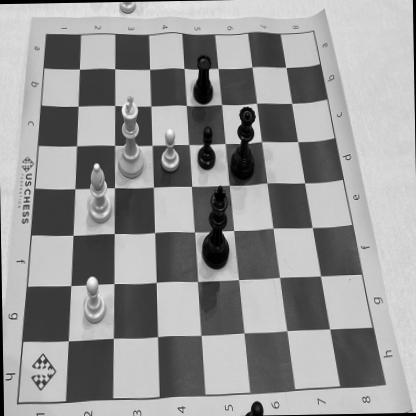bishop: (84, 161, 112, 225)
king: (113, 92, 146, 181), (200, 180, 231, 272)
pawn: (80, 274, 108, 326), (158, 126, 180, 174), (196, 126, 218, 171)
queen: (228, 100, 256, 181)
rook: (189, 50, 214, 108)
